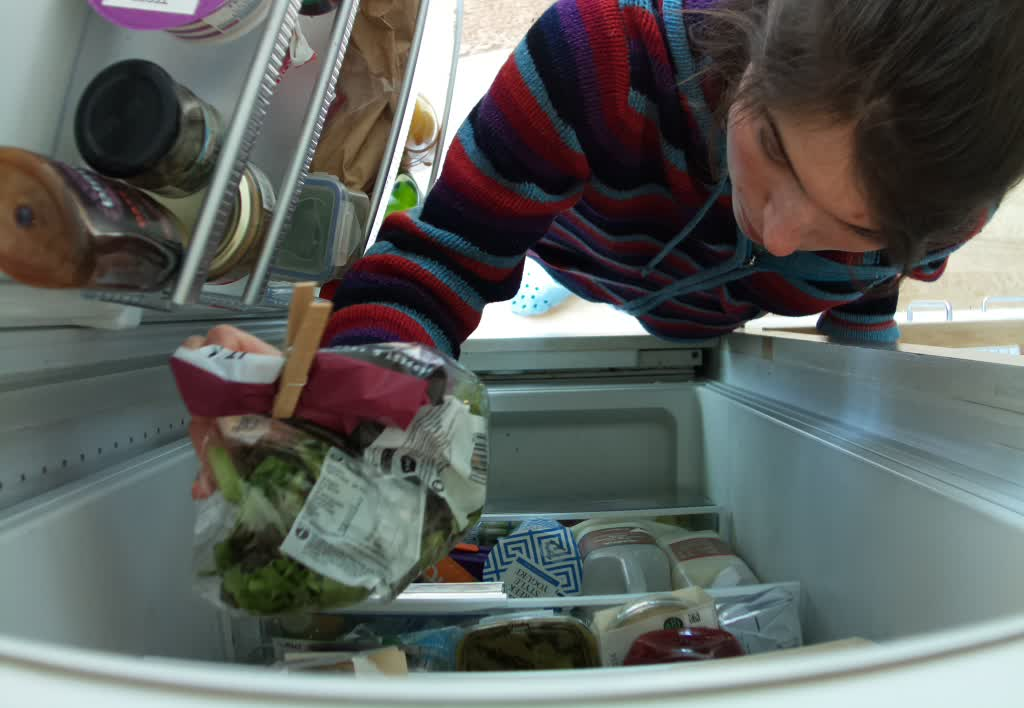salad: (184, 343, 491, 612)
